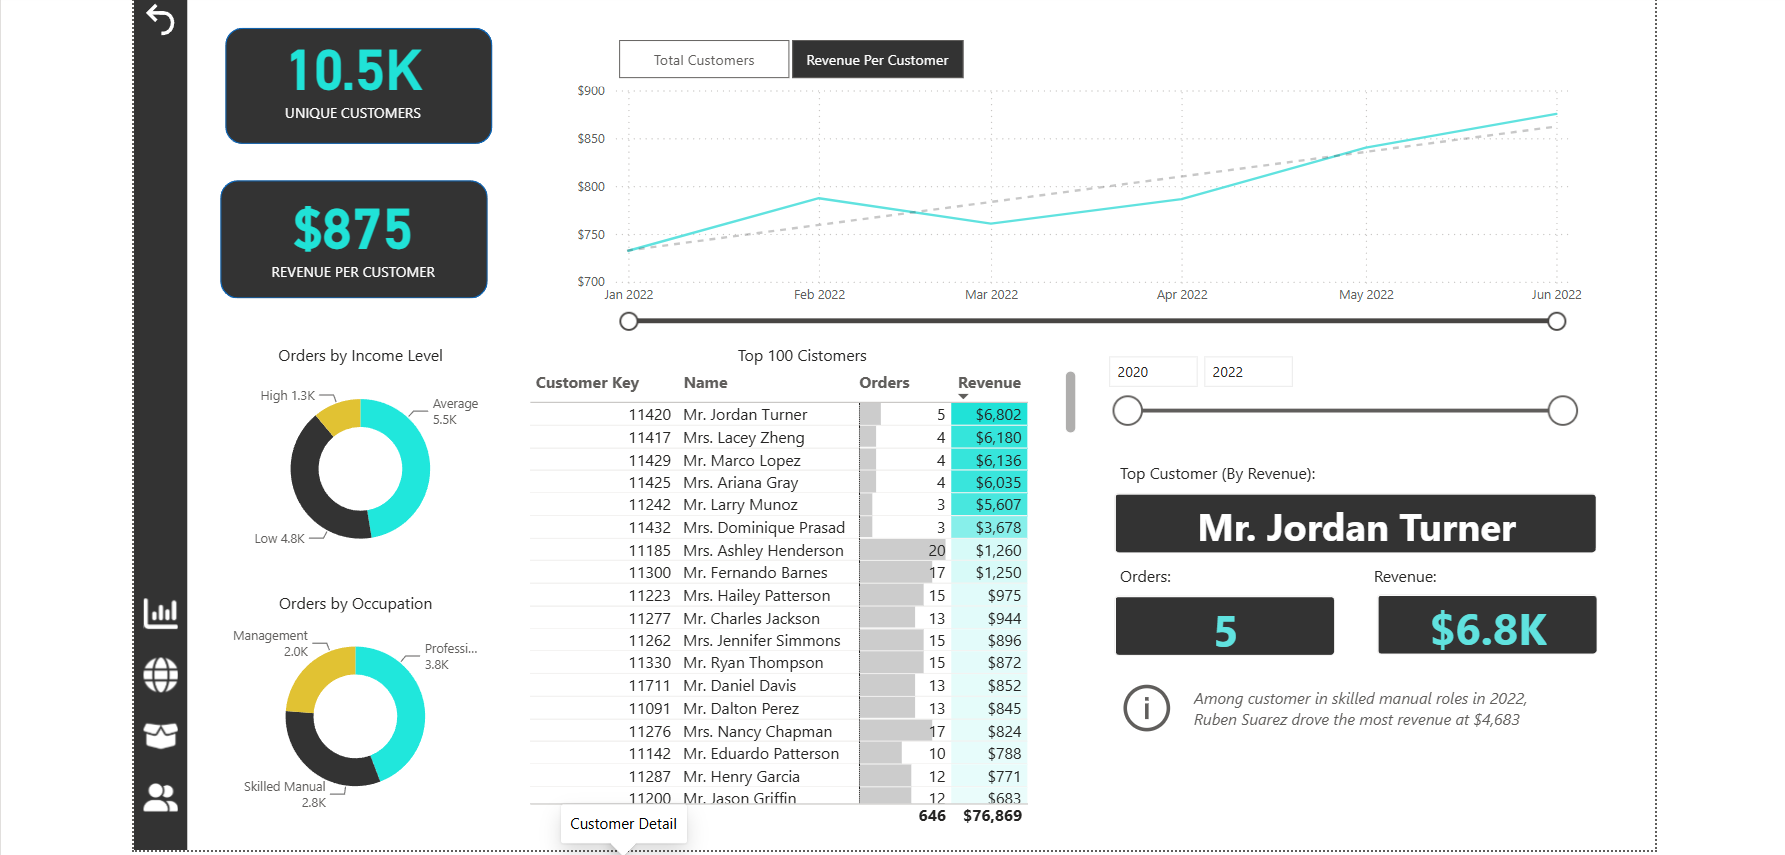

Layout of this report page (visuals, bound fields, positions):
{"tool":"powerbi","page":{"name":"Customer Detail","canvas":[1280,720],"ordinal":3},"visuals":[{"type":"group","id":"g1","title":"KPIs","box":[72.5,0,228.5,267.5],"z":0},{"type":"card","fields":{"Values":["Measure Table.Average Revenue Per Customer"]},"box":[92.2,133.4,184.2,134.1],"z":0,"group":"g3"},{"type":"shape","box":[72.5,156.8,225.1,99.6],"z":0,"group":"g2"},{"type":"card","fields":{"Values":["Measure Table.Total Customers"]},"box":[92.6,0,183.8,133.7],"z":1000,"group":"g3"},{"type":"shape","box":[76.4,28.8,224.7,97.8],"z":1000,"group":"g2"},{"type":"lineChart","fields":{"Category":["Calendar Lookup.Date Hierarchy.Start of Year","Calendar Lookup.Date Hierarchy.Start of Month","Calendar Lookup.Date Hierarchy.Start of Week","Calendar Lookup.Date Hierarchy.Date"],"Y":["Measure Table.Average Revenue Per Customer"]},"box":[368.2,67.2,854.6,218.9],"z":1000},{"type":"actionButton","box":[0,502.5,44.8,37.3],"z":1000,"group":"g4"},{"type":"group","id":"g2","title":"KPI Backgrounds","box":[72.5,28.8,228.5,227.6],"z":1001,"group":"g1"},{"type":"group","id":"g3","title":"KPI Values","box":[92.2,0,184.2,267.5],"z":2000,"group":"g1"},{"type":"donutChart","title":"Orders by Income Level","fields":{"Category":["Customer Lookup.Income Level"],"Y":["Measure Table.Total Orders"]},"box":[79.6,294.8,221.4,192.8],"z":2000},{"type":"actionButton","box":[0,553.9,44.8,37.3],"z":2000,"group":"g4"},{"type":"donutChart","title":"Orders by Occupation","fields":{"Category":["Customer Lookup.Occupation"],"Y":["Measure Table.Total Orders"]},"box":[75.9,502.6,221.4,192.8],"z":3000},{"type":"actionButton","box":[0,605.3,44.8,37.3],"z":3000,"group":"g4"},{"type":"tableEx","title":"Top 100 Cistomers","fields":{"Values":["Customer Lookup.CustomerKey","Customer Lookup.Full Name","Measure Table.Total Orders","Measure Table.Total Revenue"]},"box":[327.2,294.8,470.2,410.5],"z":4000},{"type":"actionButton","box":[0,656.8,44.8,37.3],"z":4000,"group":"g4"},{"type":"cardVisual","fields":{"Data":["Customer Lookup.Full Name (Customer Detail)"]},"box":[807.9,402.5,440,85.1],"z":5000},{"type":"cardVisual","fields":{"Data":["Measure Table.Total Orders (Customer Detail)"]},"box":[807.3,488.9,220.2,85.8],"z":6000},{"type":"cardVisual","fields":{"Data":["Measure Table.Total Revenue (Customer Detail)"]},"box":[1028.7,487.7,220.7,85.1],"z":7000},{"type":"textbox","box":[824.7,475.2,186.6,27.4],"z":8000},{"type":"textbox","box":[824.7,389.4,214,27.4],"z":9000},{"type":"textbox","box":[1037.5,475.2,186.6,27.4],"z":10000},{"type":"slicer","fields":{"Values":["Calendar Lookup.Year"]},"box":[807.9,294.3,415.5,76.5],"z":11000},{"type":"actionButton","box":[826,574.7,383.1,51],"z":12000},{"type":"shape","box":[0,0,45,720],"z":13000},{"type":"actionButton","box":[3.7,0,36.1,42.3],"z":14000},{"type":"group","id":"g4","title":"Navigation Buttons","box":[0,502.5,45,191.2],"z":15000},{"type":"slicer","fields":{"Values":["Customer Metric Selection.Customer Metric Selection"]},"box":[381.9,31.1,339.6,46],"z":16000}]}

Visuals, with their boxes on the page's 1280x720 design canvas (x1, y1, x2, y2). These are canvas units, not pixel positions in the 1785x855 screenshot, which may show the page scaled, cropped or inside an application window:
"KPIs" group: {"x1": 72, "y1": 0, "x2": 301, "y2": 268}
card - Measure Table.Average Revenue Per Customer: {"x1": 92, "y1": 133, "x2": 276, "y2": 268}
shape: {"x1": 72, "y1": 157, "x2": 298, "y2": 256}
card - Measure Table.Total Customers: {"x1": 93, "y1": 0, "x2": 276, "y2": 134}
shape: {"x1": 76, "y1": 29, "x2": 301, "y2": 127}
lineChart - Calendar Lookup.Date Hierarchy.Start of Year x Calendar Lookup.Date Hierarchy.Start of Month: {"x1": 368, "y1": 67, "x2": 1223, "y2": 286}
actionButton: {"x1": 0, "y1": 502, "x2": 45, "y2": 540}
"KPI Backgrounds" group: {"x1": 72, "y1": 29, "x2": 301, "y2": 256}
"KPI Values" group: {"x1": 92, "y1": 0, "x2": 276, "y2": 268}
"Orders by Income Level" donutChart: {"x1": 80, "y1": 295, "x2": 301, "y2": 488}
actionButton: {"x1": 0, "y1": 554, "x2": 45, "y2": 591}
"Orders by Occupation" donutChart: {"x1": 76, "y1": 503, "x2": 297, "y2": 695}
actionButton: {"x1": 0, "y1": 605, "x2": 45, "y2": 643}
"Top 100 Cistomers" tableEx: {"x1": 327, "y1": 295, "x2": 797, "y2": 705}
actionButton: {"x1": 0, "y1": 657, "x2": 45, "y2": 694}
cardVisual - Customer Lookup.Full Name (Customer Detail): {"x1": 808, "y1": 402, "x2": 1248, "y2": 488}
cardVisual - Measure Table.Total Orders (Customer Detail): {"x1": 807, "y1": 489, "x2": 1028, "y2": 575}
cardVisual - Measure Table.Total Revenue (Customer Detail): {"x1": 1029, "y1": 488, "x2": 1249, "y2": 573}
textbox: {"x1": 825, "y1": 475, "x2": 1011, "y2": 503}
textbox: {"x1": 825, "y1": 389, "x2": 1039, "y2": 417}
textbox: {"x1": 1038, "y1": 475, "x2": 1224, "y2": 503}
slicer - Calendar Lookup.Year: {"x1": 808, "y1": 294, "x2": 1223, "y2": 371}
actionButton: {"x1": 826, "y1": 575, "x2": 1209, "y2": 626}
shape: {"x1": 0, "y1": 0, "x2": 45, "y2": 720}
actionButton: {"x1": 4, "y1": 0, "x2": 40, "y2": 42}
"Navigation Buttons" group: {"x1": 0, "y1": 502, "x2": 45, "y2": 694}
slicer - Customer Metric Selection.Customer Metric Selection: {"x1": 382, "y1": 31, "x2": 722, "y2": 77}
